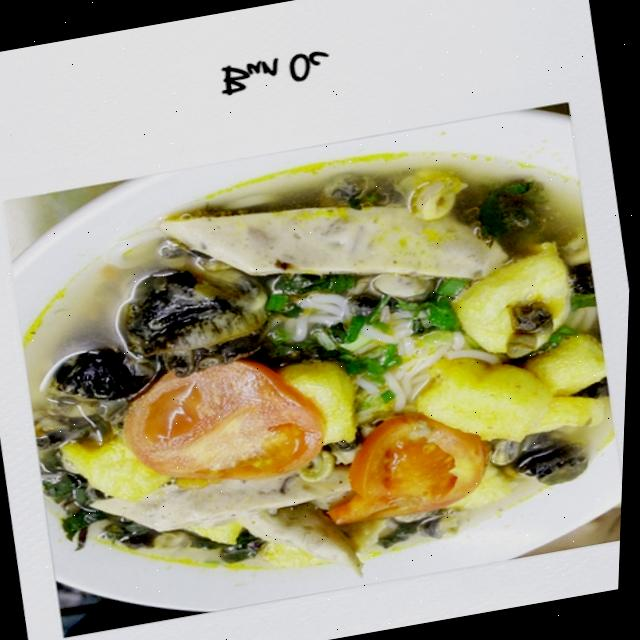面条主食: (0, 101, 637, 640)
